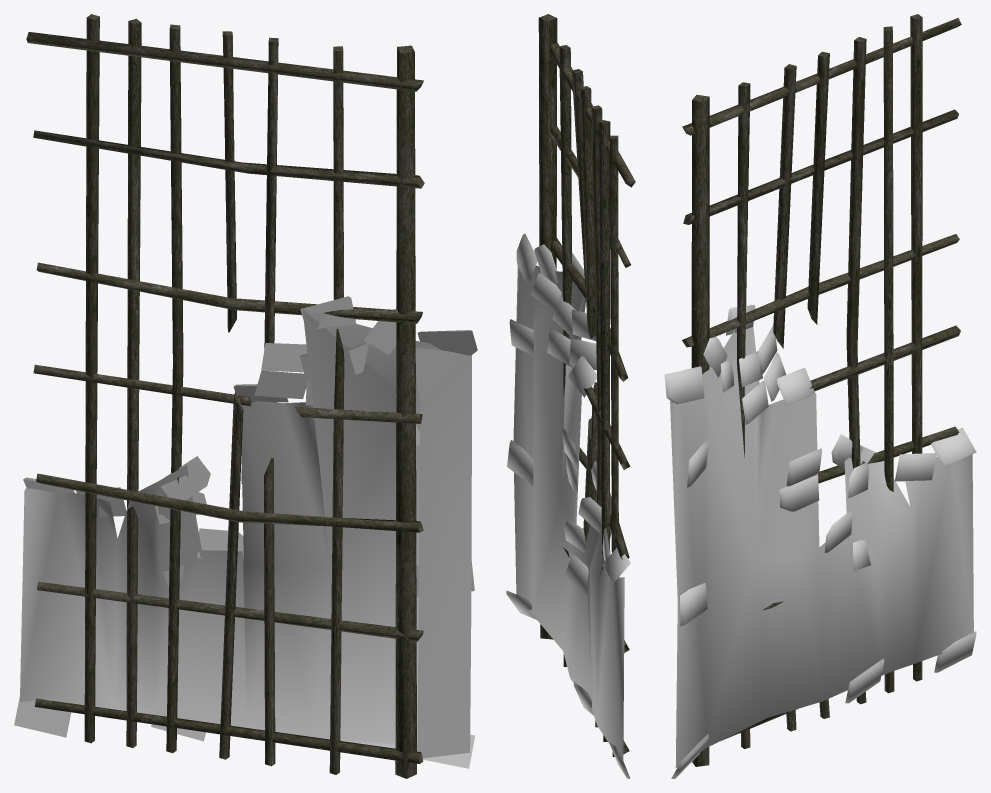
Rendered from TI_Damaged_Roof_02.fbx.
3 renders of one model, left to right at view 1: azimuth 30°, elevation 25°; view 2: azimuth 150°, elevation 25°; view 3: azimuth 270°, elevation 25°, orthographic. The views are drawn at different scales.
Visible parts, largest first — view 1: Ti_D_Roof_02, TI_Roof_Frame_02; view 2: Ti_D_Roof_02, TI_Roof_Frame_02; view 3: Ti_D_Roof_02, TI_Roof_Frame_02.
Part boxes in pixels (left/top/right/bottom): Ti_D_Roof_02: left=14, top=296, right=477, bottom=768; TI_Roof_Frame_02: left=26, top=14, right=424, bottom=778; Ti_D_Roof_02: left=506, top=233, right=630, bottom=778; TI_Roof_Frame_02: left=538, top=14, right=635, bottom=756; Ti_D_Roof_02: left=664, top=304, right=976, bottom=778; TI_Roof_Frame_02: left=682, top=14, right=961, bottom=766.
Bounding box in the file's own units: 4.3 × 9.9 × 4.18.
